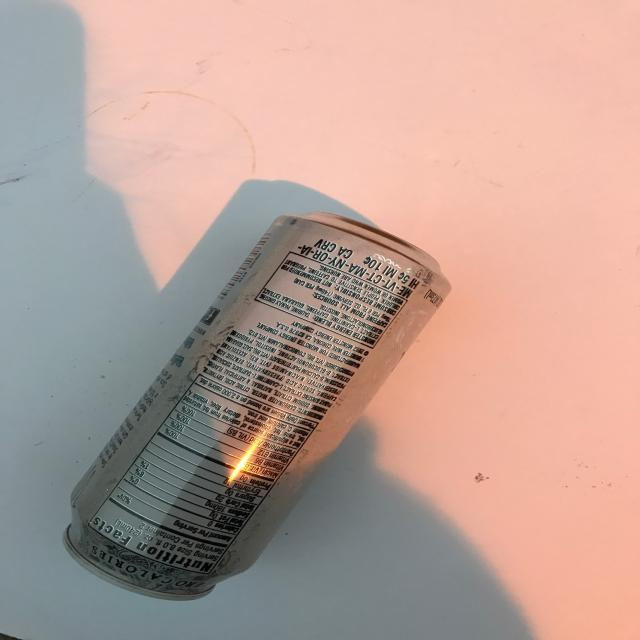metal: (64, 210, 452, 602)
